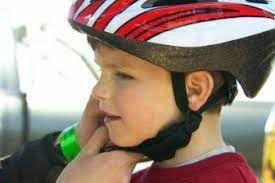helmets: (68, 0, 274, 96)
